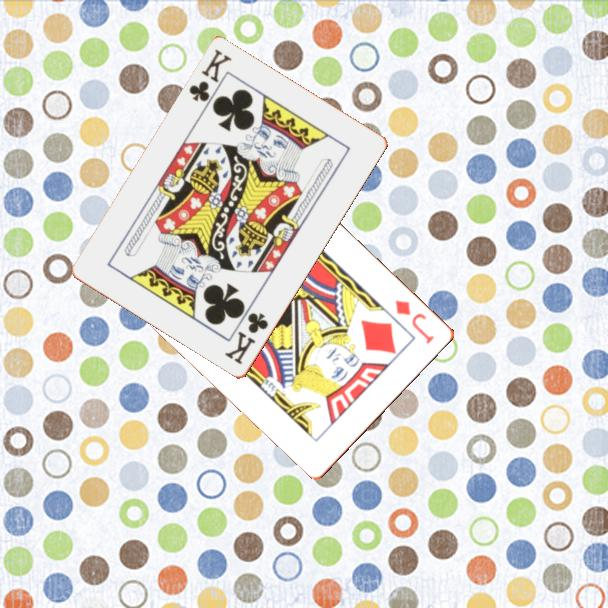c13: (221, 309, 271, 368), (185, 46, 235, 105)
d11: (392, 296, 438, 347)
